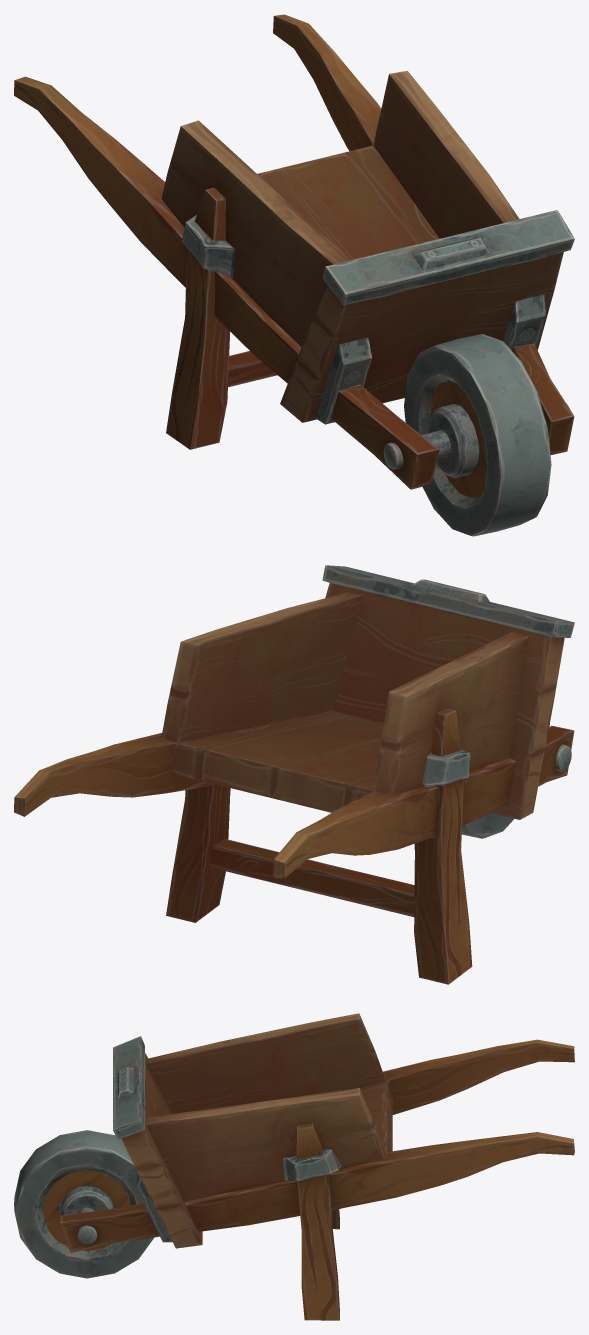
Rendered from wheelbarrow.glb.
3 renders of one model, top to bottom at view 1: azimuth 30°, elevation 25°; view 2: azimuth 150°, elevation 25°; view 3: azimuth 270°, elevation 25°, orthographic. The views are drawn at different scales.
Parts seen in each view (by area): view 1: barrow, wheel; view 2: barrow, wheel; view 3: barrow, wheel.
Part boxes in pixels (x1,y1,x2,y2): barrow: (14,14,574,489); wheel: (383,334,569,536); barrow: (14,565,574,984); wheel: (461,724,571,838); barrow: (60,1013,574,1320); wheel: (14,1130,154,1278).
Bounding box in the file's own units: 3.01 × 2.98 × 6.98.
Materials: 1 (1 with a texture image).
